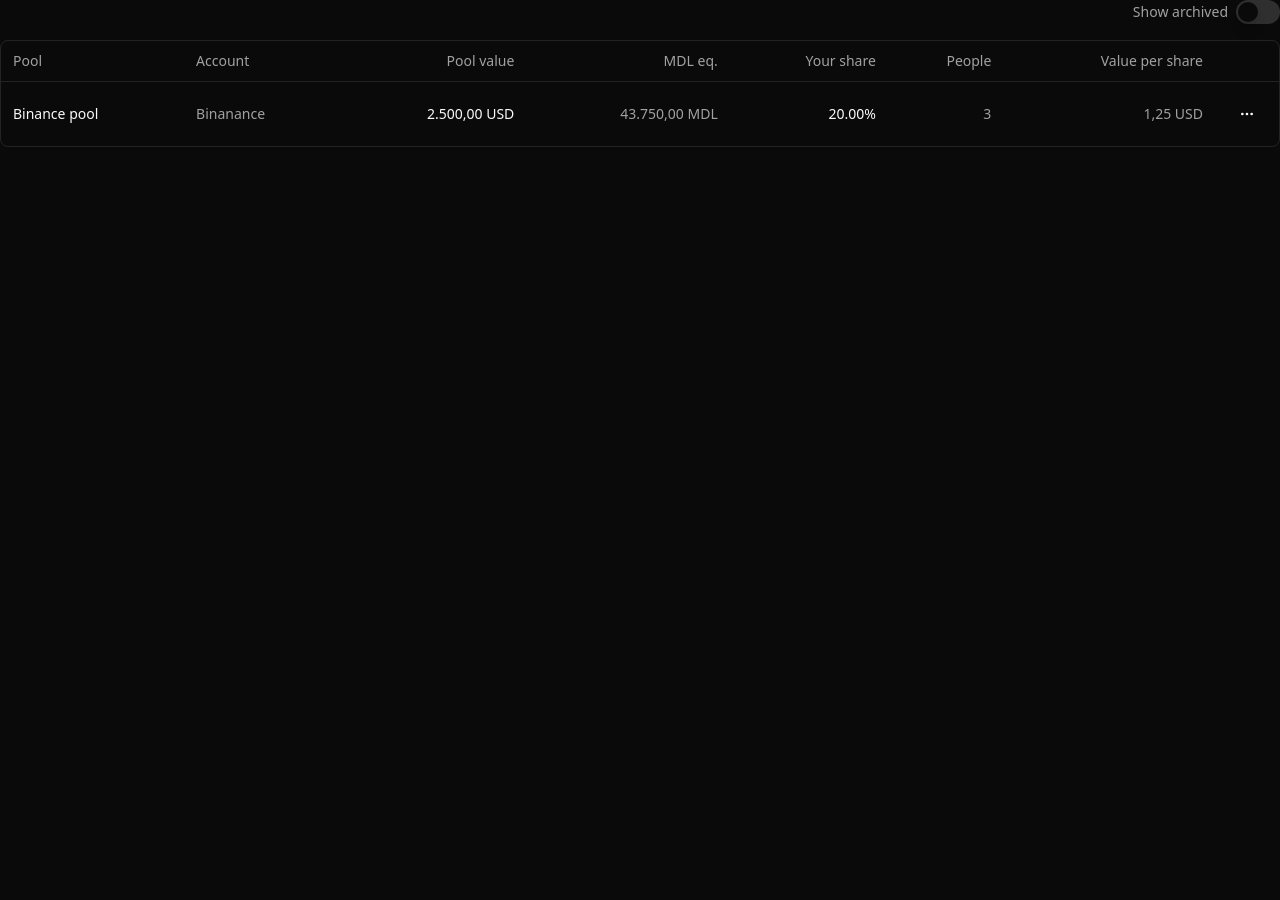
Scenario: PoolsTable › opens then closes the Archive dialog from the row menu
Click the button with test id "pool-actions" at [1247, 114], box [1227,94,1267,134]
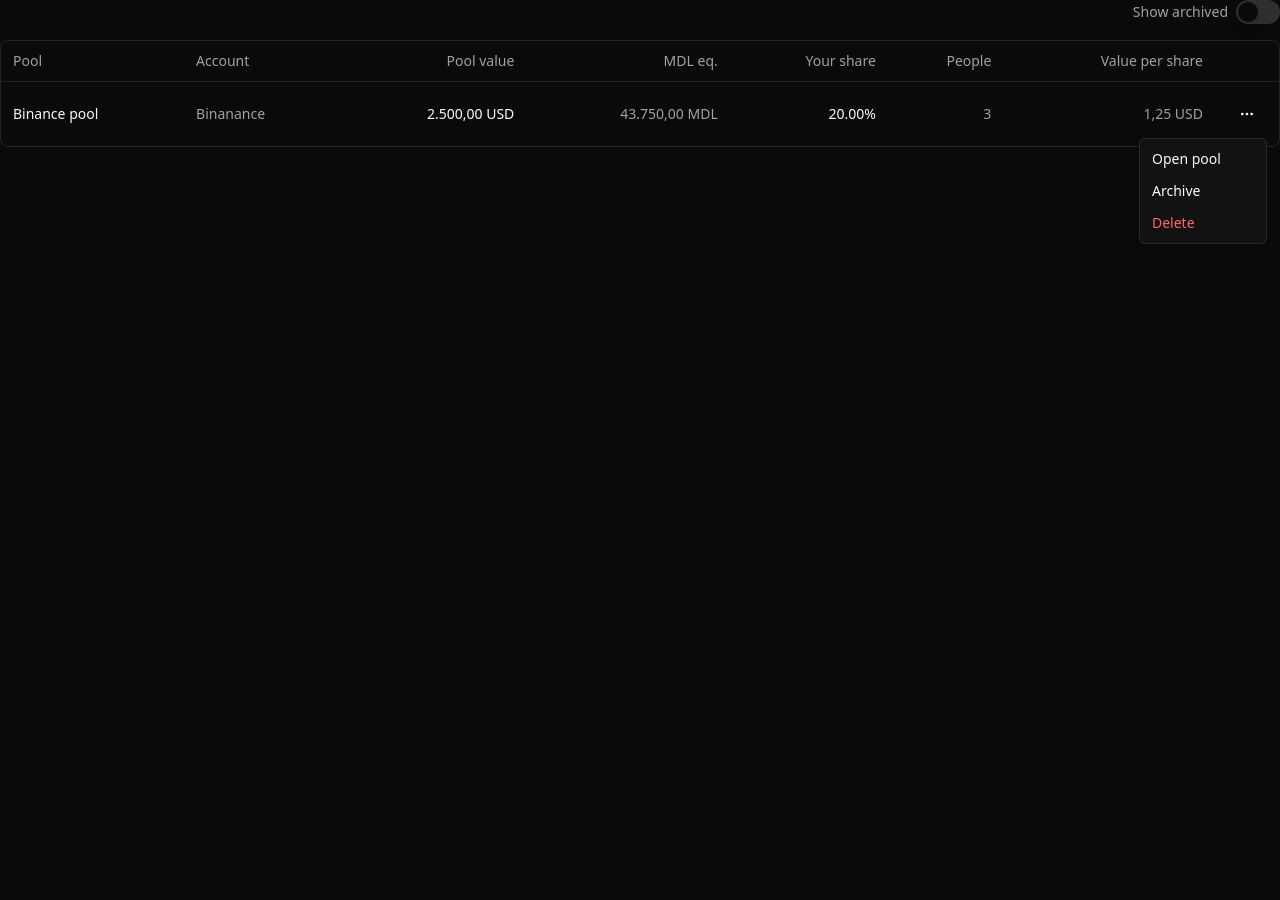
Click the menu item with test id "archive-pool-action" at [1176, 190], box [1152,181,1200,200]
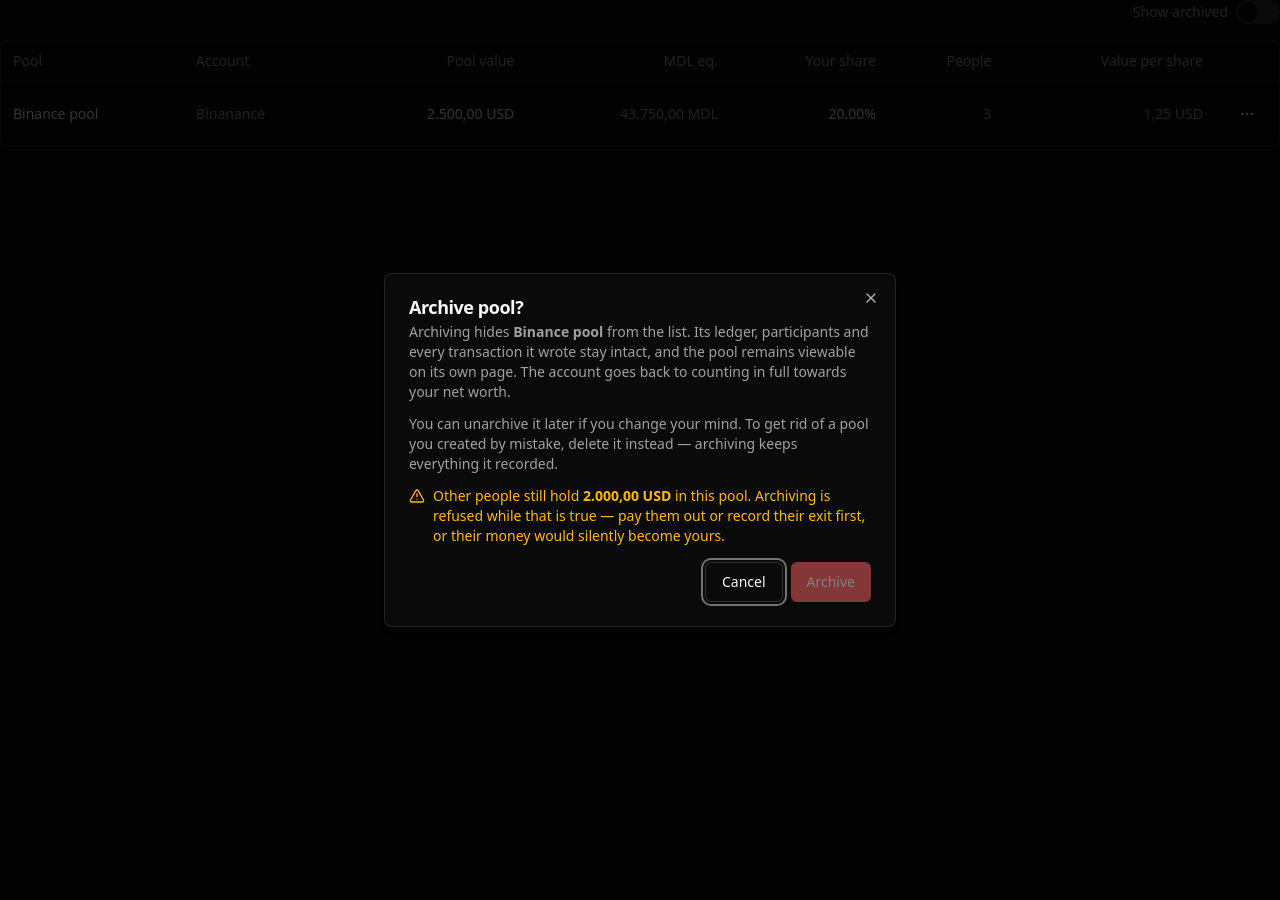
Expected: the dialog with test id "archive-pool-dialog" is shown, [384,273,896,627]
Press Escape
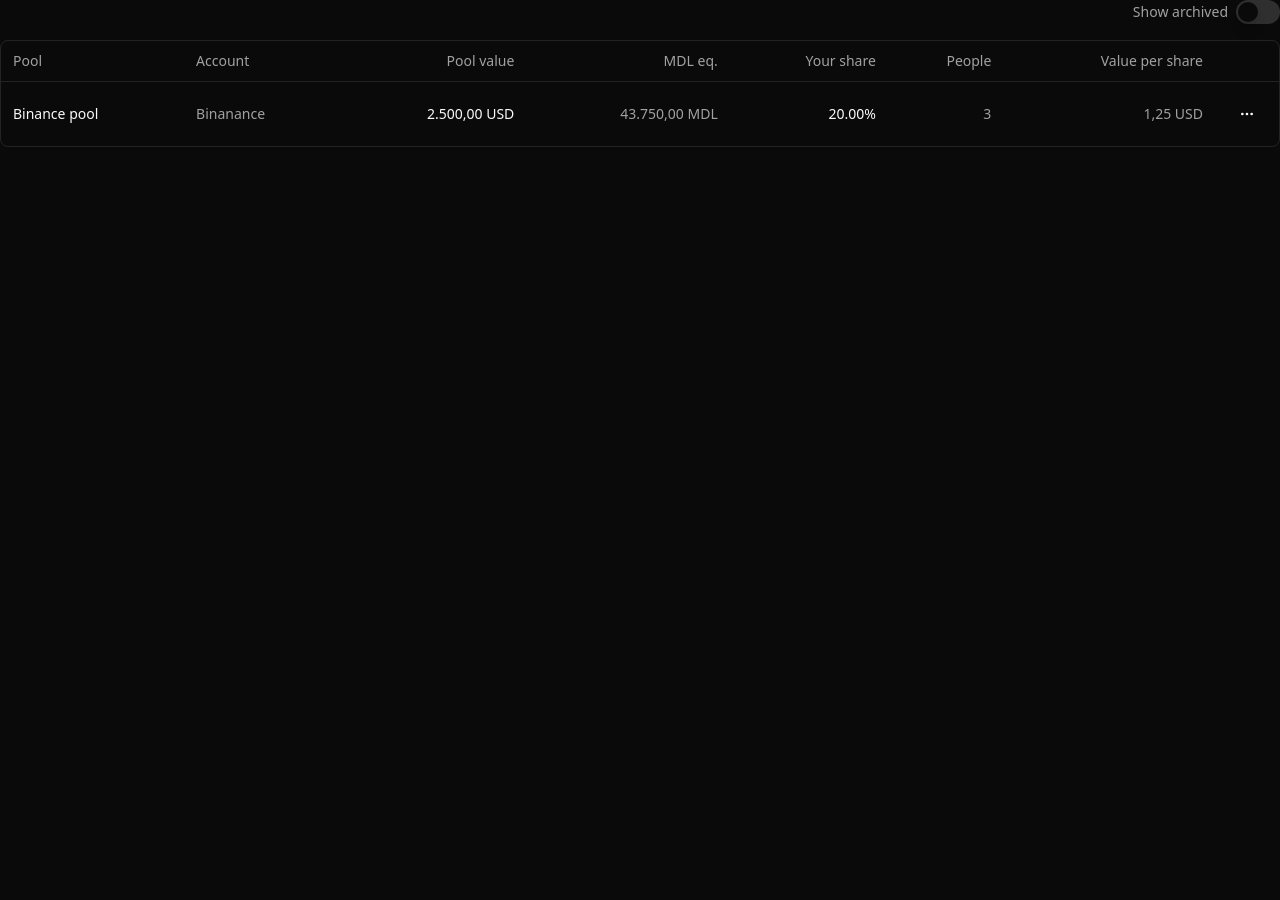
Expected: the dialog with test id "archive-pool-dialog" is gone
